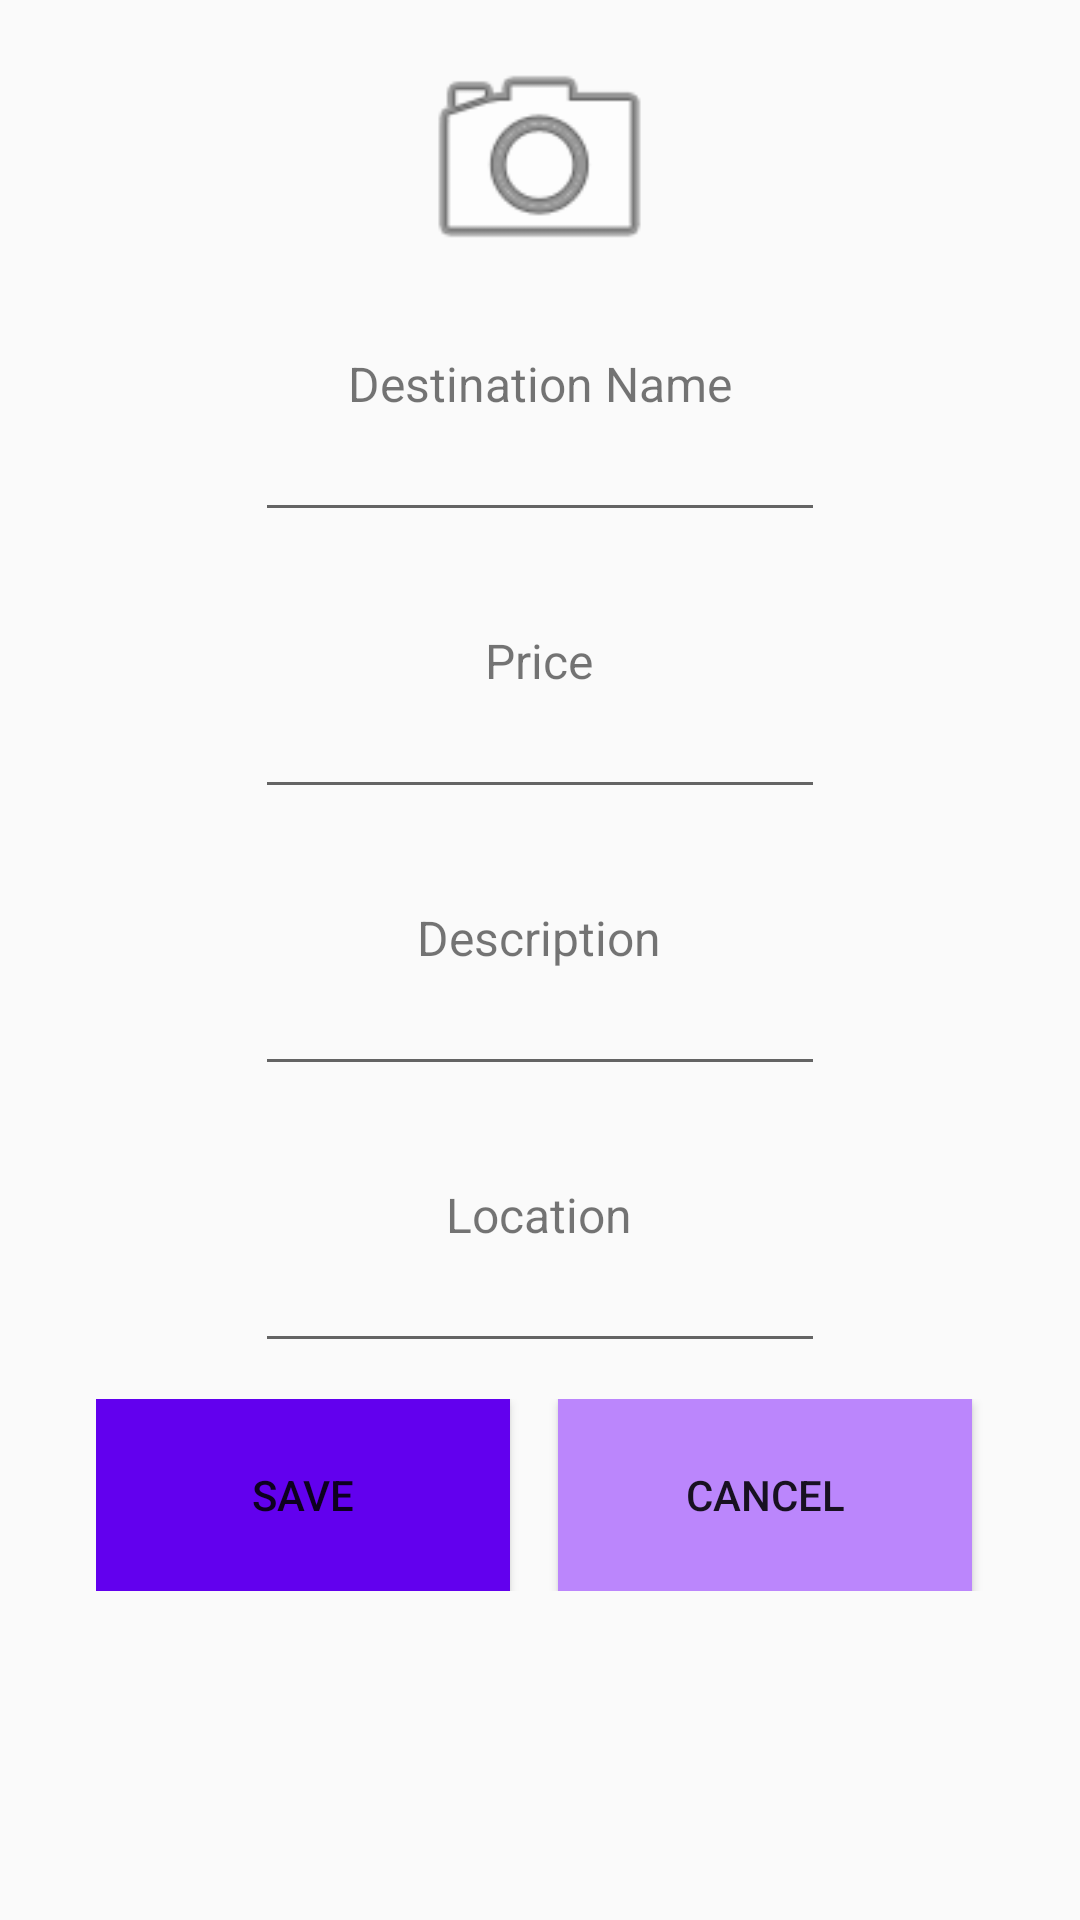

Icon click points for this 1080×1920 phone screenshot, format (x=x, y=y):
camera: (x=539, y=156)
